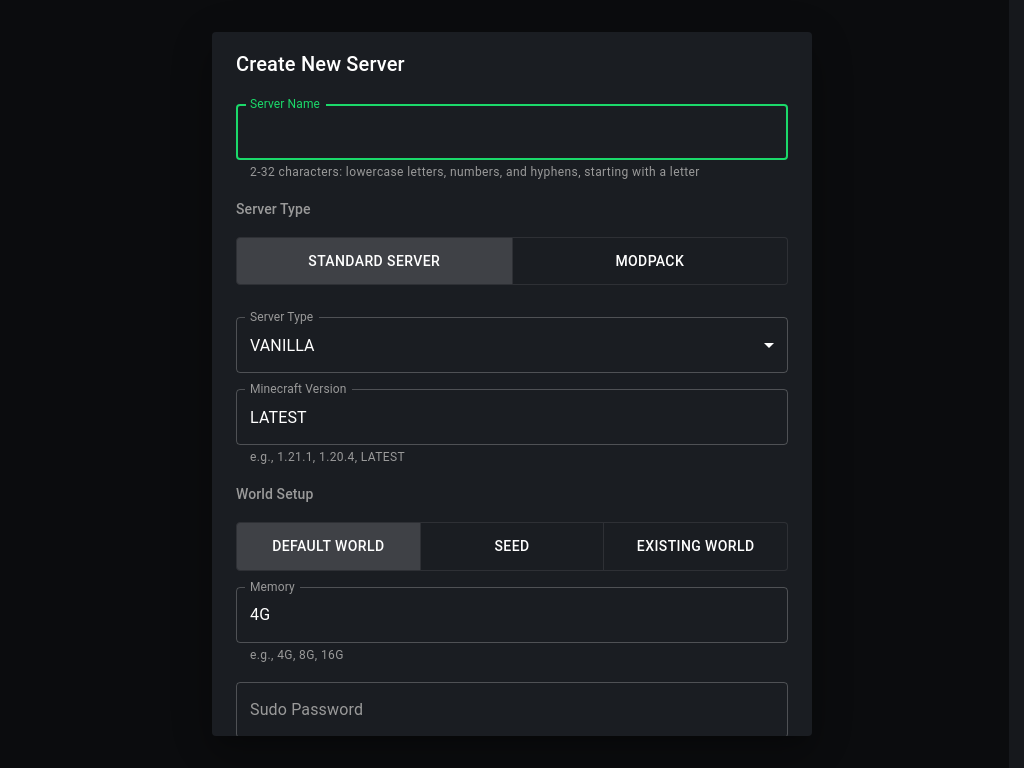
CreateServerDialog › should warn that LATEST may not be supported yet by non-vanilla server types
Expected: the text "may not support the newest" is not shown
Press the mouse on the dropdown named "server type" at (282,345), box [250,336,315,355]
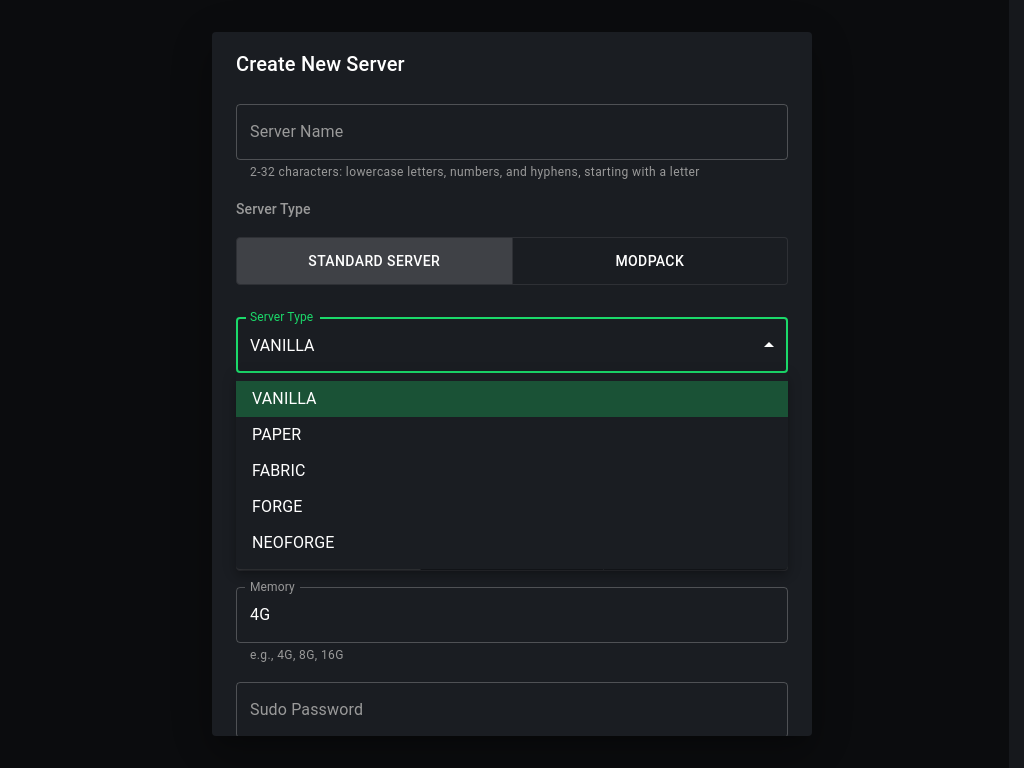
Click the option "FORGE" at (277,506), box [252,497,302,516]
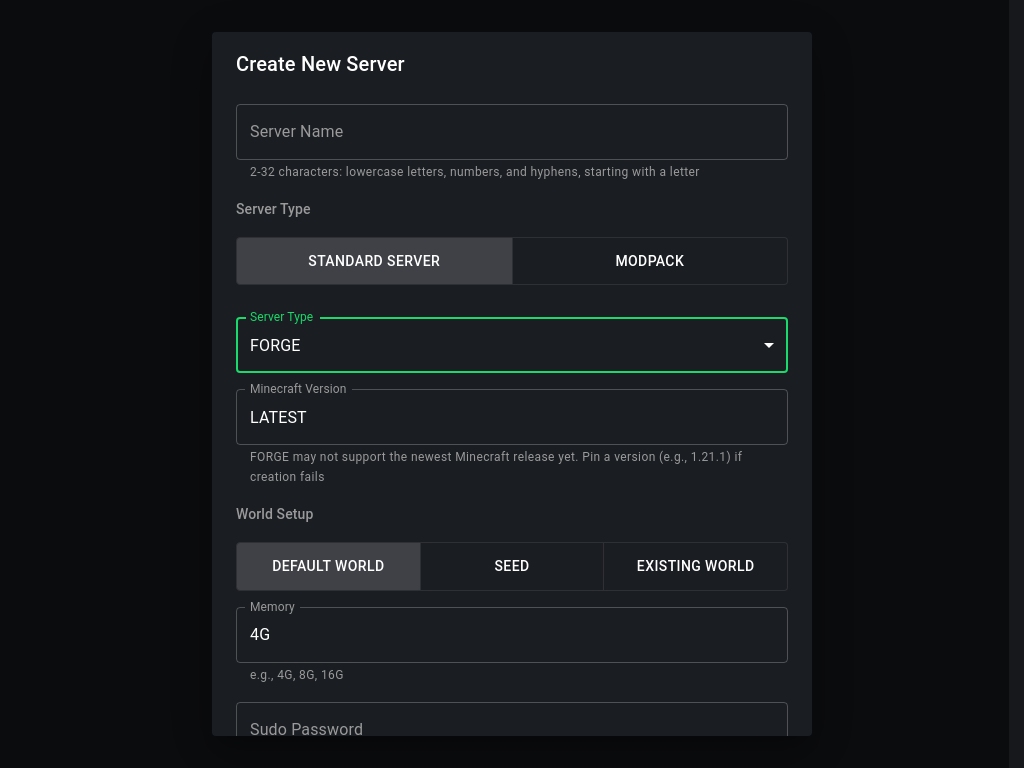
Now the text "FORGE may not support the newest" is shown, box [250,450,742,484]
